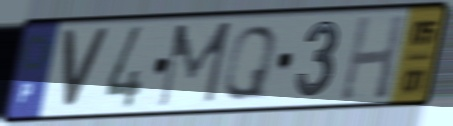3: (293, 17, 343, 103)
4: (101, 22, 146, 113)
H: (337, 12, 408, 103)
M: (154, 19, 235, 111)
Q: (219, 22, 280, 103)
V: (60, 27, 113, 113)
